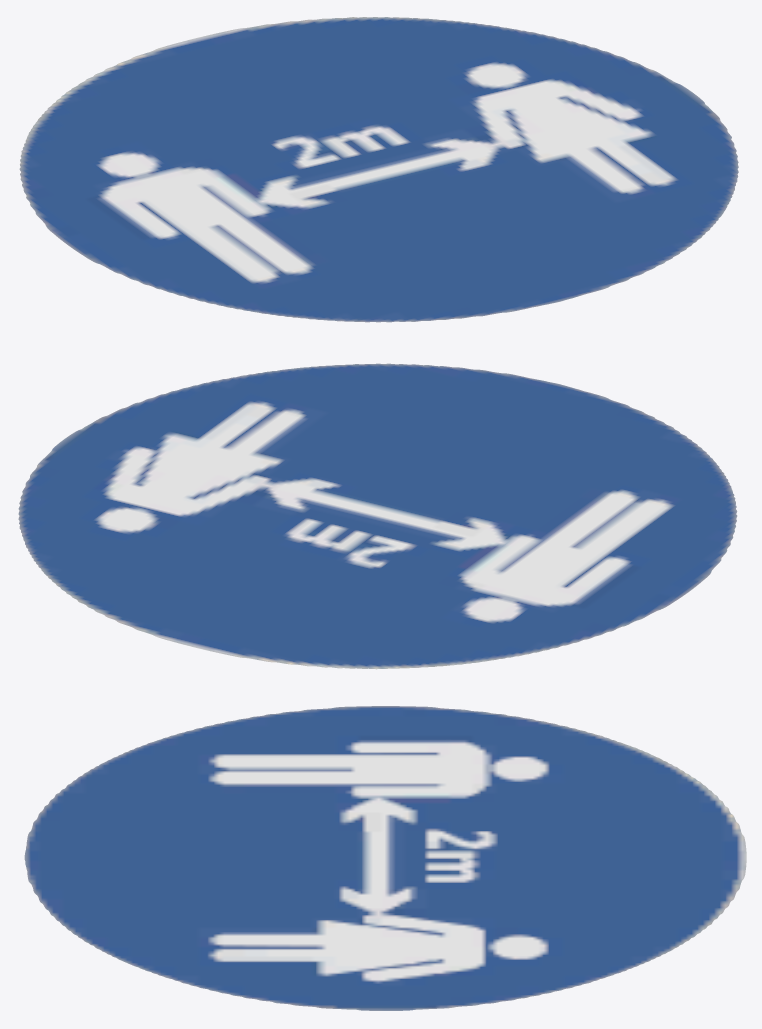
The model's file is SM_Sign_Floor_Covid_03.glb.
3 views of the same model, one above another, from view 1: azimuth 30°, elevation 25°; view 2: azimuth 150°, elevation 25°; view 3: azimuth 270°, elevation 25° (orthographic).
Parts seen in each view (by area): view 1: SM_Sign_Floor_Covid_03; view 2: SM_Sign_Floor_Covid_03; view 3: SM_Sign_Floor_Covid_03.
Boxes of the visible parts, left/top/right/bottom form: SM_Sign_Floor_Covid_03: left=19, top=17, right=738, bottom=322; SM_Sign_Floor_Covid_03: left=18, top=363, right=737, bottom=669; SM_Sign_Floor_Covid_03: left=24, top=706, right=746, bottom=1010.
Bounding box in the file's own units: 0.4461 × 0 × 0.4393.
1 material, 1 textured.
